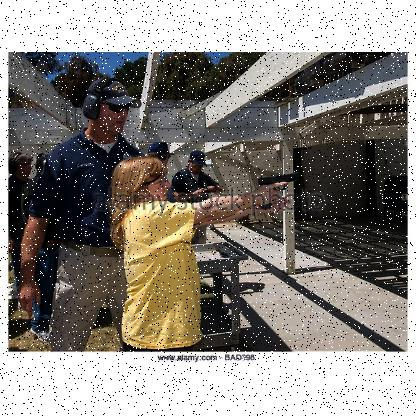gun: (255, 169, 297, 213)
